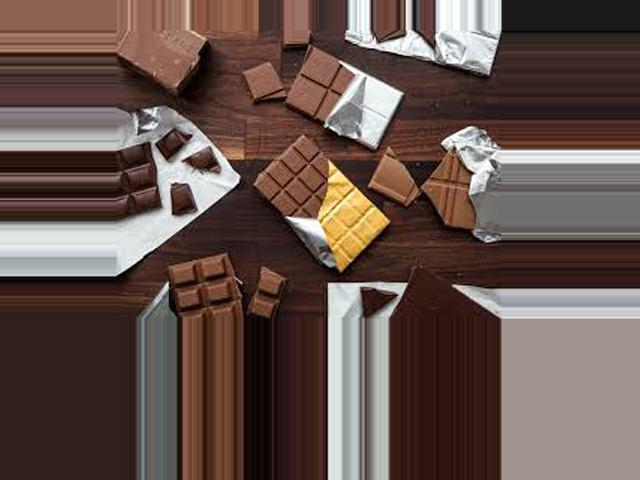chocolate: (284, 36, 395, 150)
